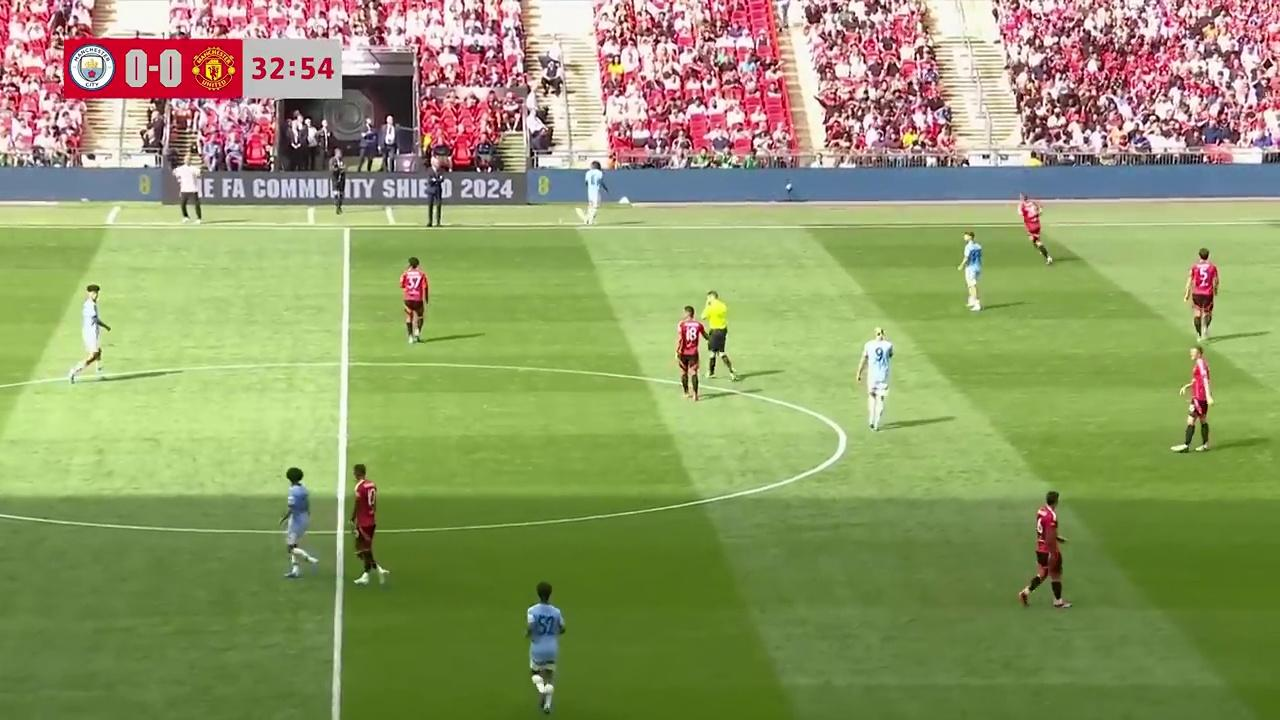player: (1018, 490, 1069, 609), (525, 582, 566, 710), (349, 464, 389, 588), (277, 465, 318, 579), (69, 285, 110, 382), (1175, 349, 1213, 452), (857, 327, 894, 420), (1184, 248, 1219, 341), (675, 306, 702, 401), (400, 257, 429, 345), (1019, 196, 1051, 264), (958, 230, 983, 311), (587, 161, 606, 224)
referee: (702, 291, 736, 379)
